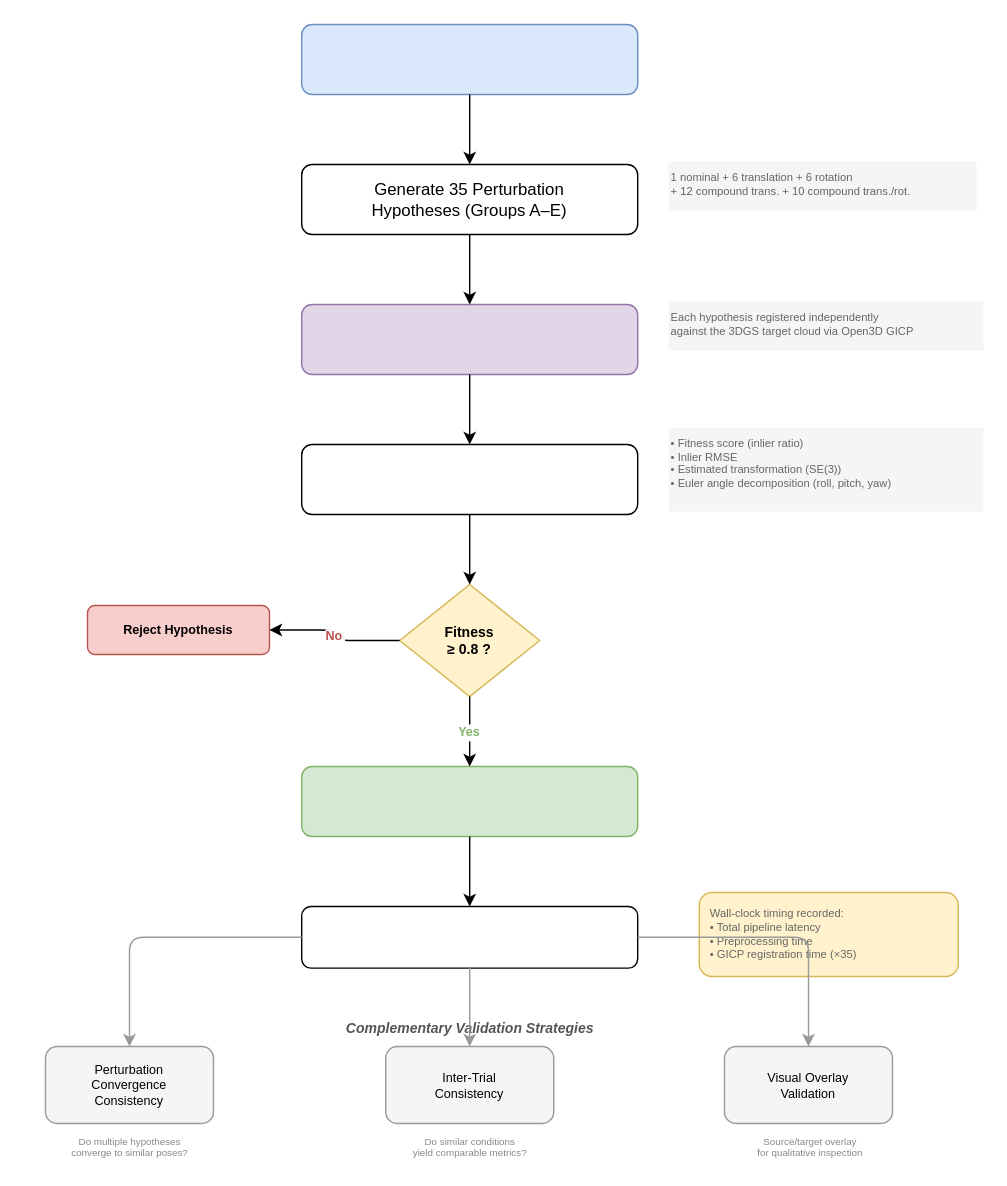
The diagram is 1007 pixels wide and 1186 high, and some of its shapes have lost their labels. Each missing label, with the centre of its shape:
"GICP Registration (×35 independent runs)" belongs at (x=469, y=338).
"Initial Pose (manual measurement)" belongs at (x=469, y=58).
"Record Per-Hypothesis Metrics" belongs at (x=469, y=478).
"Select Best Hypothesis (max fitness, min RMSE tiebreaker)" belongs at (x=469, y=800).
"Serialise Results to JSON" belongs at (x=469, y=936).
